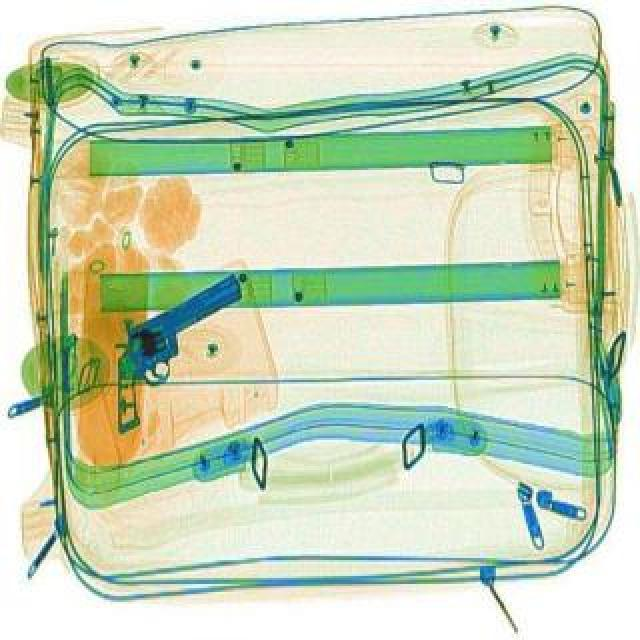gun: (74, 270, 286, 438)
